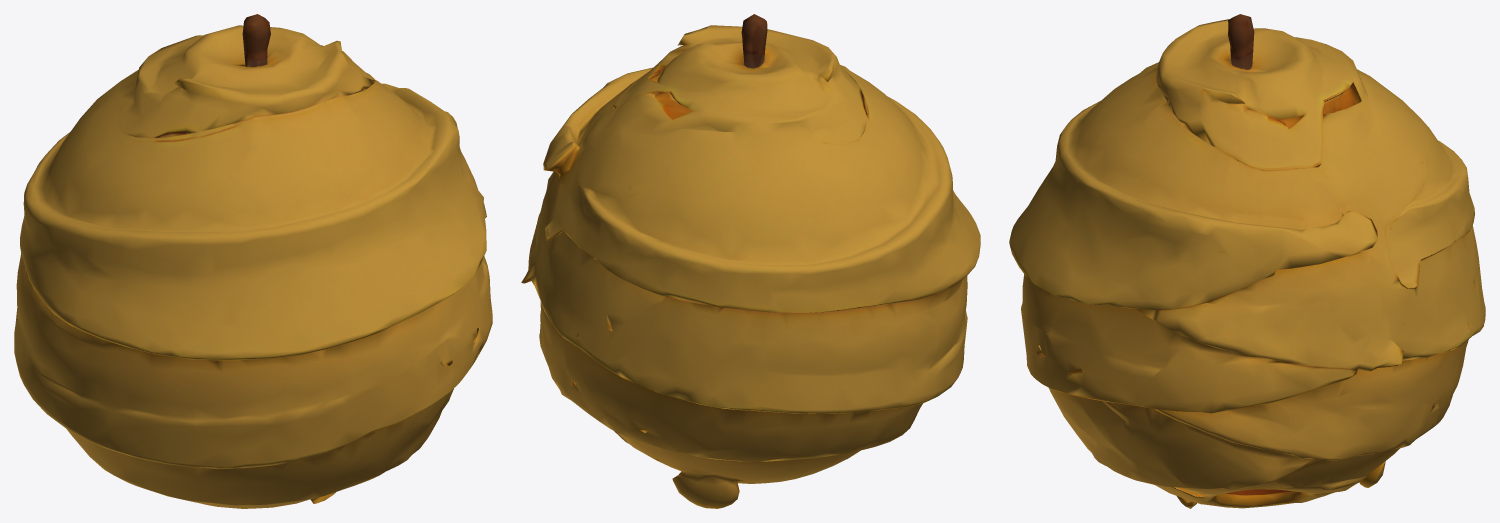
Rendered from ammo-hive.glb.
The picture shows the model from 3 angles, left to right: view 1: azimuth 30°, elevation 25°; view 2: azimuth 150°, elevation 25°; view 3: azimuth 270°, elevation 25°; orthographic projection. The views are drawn at different scales.
Visible parts, largest first — view 1: tripo_node_57b23415-bb2d-4cb7-a928-d690b7e24bfb; view 2: tripo_node_57b23415-bb2d-4cb7-a928-d690b7e24bfb; view 3: tripo_node_57b23415-bb2d-4cb7-a928-d690b7e24bfb.
Boxes of the visible parts, x1,y1,x2,y2 form: tripo_node_57b23415-bb2d-4cb7-a928-d690b7e24bfb: (14, 14, 492, 508); tripo_node_57b23415-bb2d-4cb7-a928-d690b7e24bfb: (521, 14, 980, 508); tripo_node_57b23415-bb2d-4cb7-a928-d690b7e24bfb: (1009, 14, 1485, 508).
Size of the model in its own units: 0.9039 by 0.9818 by 0.8903.
1 material, 1 textured.
